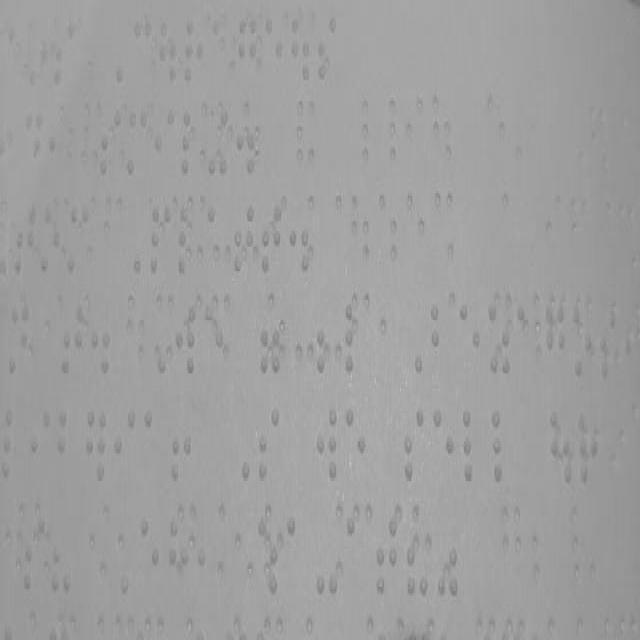braiile: (448, 296, 482, 388), (401, 398, 429, 494), (342, 291, 372, 376), (574, 404, 602, 494), (4, 301, 34, 383), (22, 508, 48, 602), (138, 508, 164, 602), (314, 400, 341, 489), (260, 196, 286, 284), (174, 298, 200, 386), (257, 398, 283, 486), (372, 512, 398, 599), (37, 201, 64, 283), (125, 106, 152, 186), (98, 106, 124, 188), (12, 197, 38, 279), (67, 199, 93, 281), (167, 512, 190, 604), (344, 398, 368, 486), (490, 398, 514, 486), (55, 402, 79, 487), (52, 14, 78, 92), (432, 401, 454, 492), (21, 106, 45, 188), (316, 8, 340, 90), (149, 197, 173, 279), (230, 201, 254, 283), (542, 299, 566, 381), (568, 294, 592, 376), (346, 509, 368, 598), (154, 105, 178, 183), (114, 404, 136, 489), (140, 410, 163, 488), (178, 195, 200, 276), (29, 404, 51, 484), (237, 12, 259, 90), (263, 12, 285, 90), (132, 15, 156, 86), (203, 202, 224, 282), (514, 300, 536, 376), (182, 12, 204, 86), (462, 406, 482, 486), (182, 103, 202, 181), (212, 17, 232, 84)
